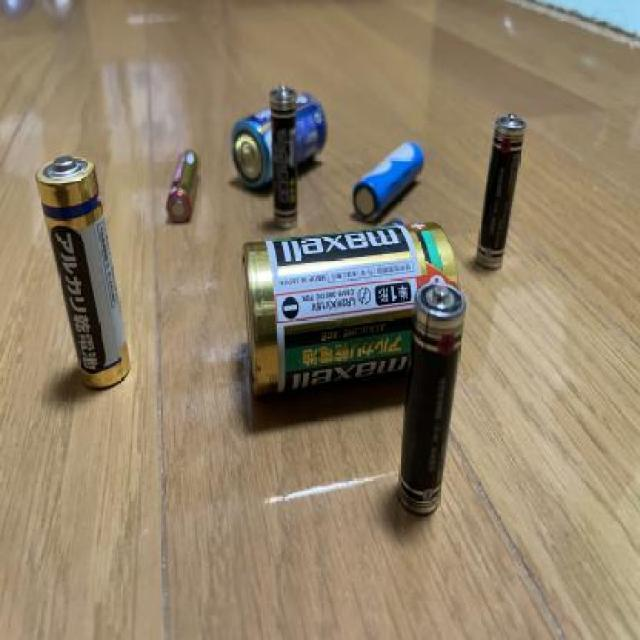hazardous waste: (240, 220, 462, 408), (38, 151, 134, 391), (392, 283, 470, 520), (225, 89, 328, 188), (476, 109, 530, 268), (348, 138, 428, 226), (268, 84, 304, 228), (164, 140, 202, 226)
